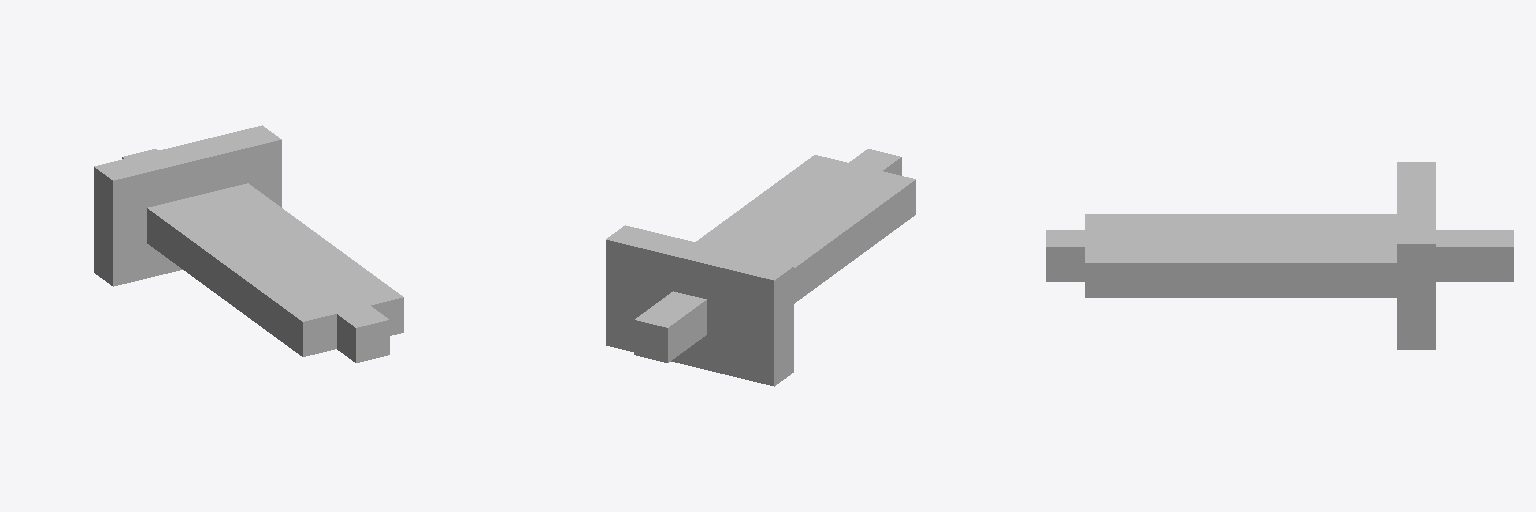
The model's file is sword.obj.
The picture shows the model from 3 angles: view 1: azimuth 30°, elevation 25°; view 2: azimuth 150°, elevation 25°; view 3: azimuth 270°, elevation 25°; orthographic projection.
Visible parts, largest first — view 1: object 1; view 2: object 1; view 3: object 1.
Part boxes in pixels (x1,y1,x2,y2): object 1: (94,125,403,362); object 1: (606,149,915,386); object 1: (1046,162,1513,349).
Bounding box in the file's own units: 0.5 × 0.3 × 1.2.